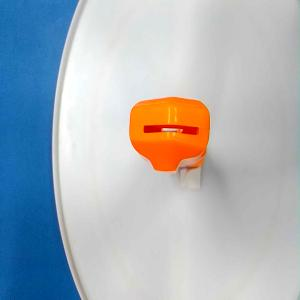estilete: (129, 96, 211, 192)
